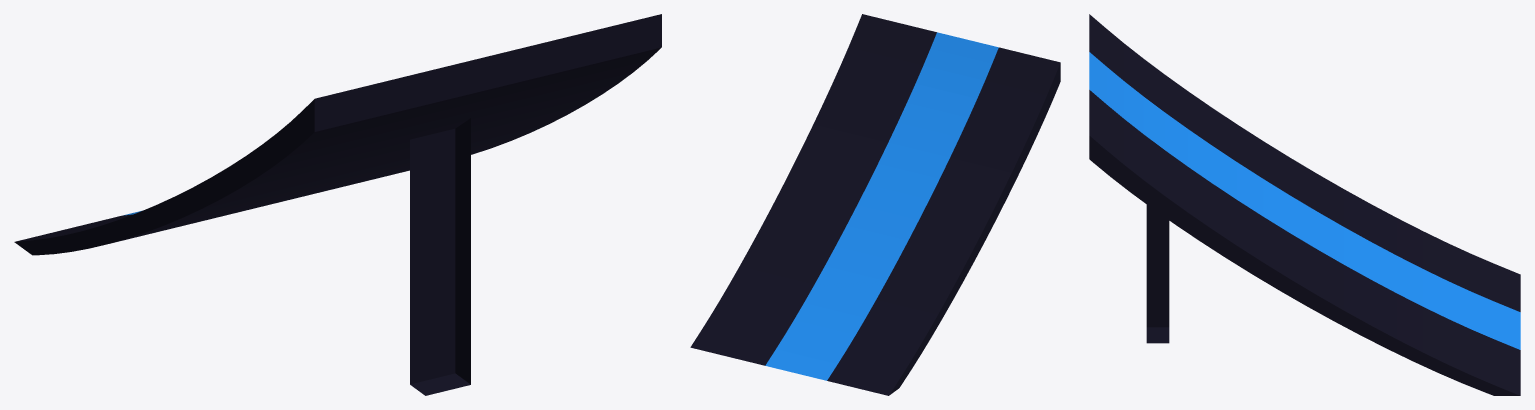
File: ramp1.fbx
3 views of the same model, side by side, from view 1: azimuth 30°, elevation 25°; view 2: azimuth 150°, elevation 25°; view 3: azimuth 270°, elevation 25° (orthographic). The views are drawn at different scales.
Visible parts, largest first — view 1: ramp1; view 2: ramp1; view 3: ramp1.
Boxes of the visible parts, box(x1,y1,x2,y2) form: ramp1: box(14, 14, 661, 395); ramp1: box(690, 14, 1060, 395); ramp1: box(1089, 14, 1520, 395).
Bounding box in the file's own units: 200 × 200 × 300.
